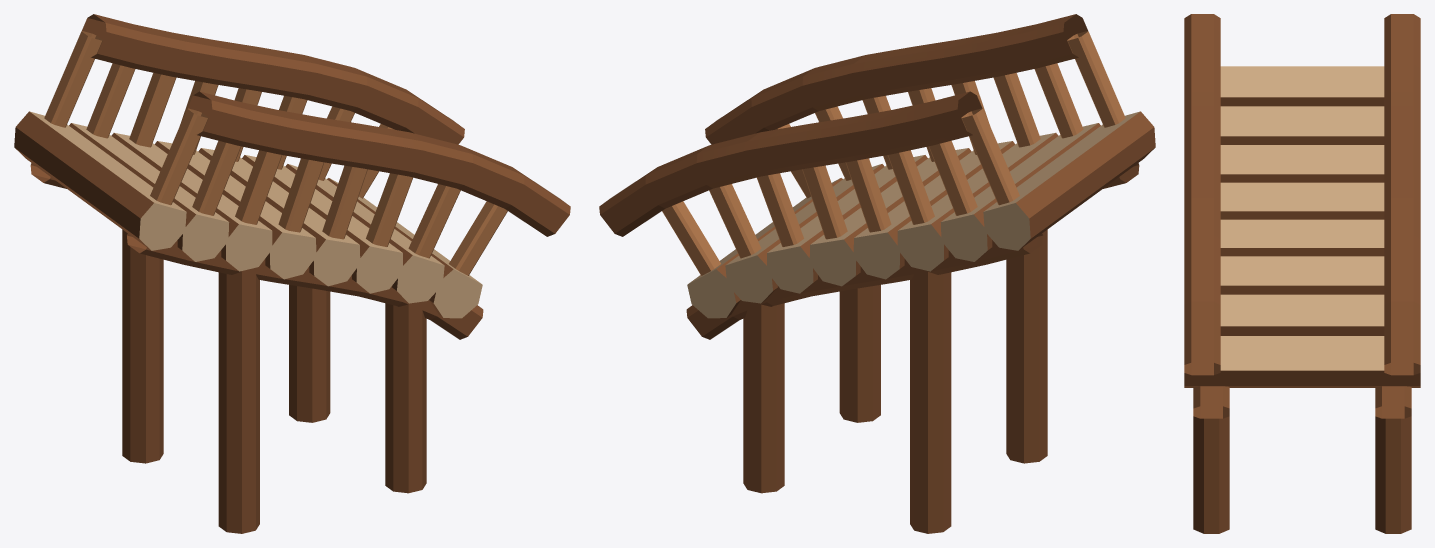
The model's file is Track_Bridge_Incline_Sharp_Gentle_Supported.obj.
The picture shows the model from 3 angles, left to right: view 1: azimuth 30°, elevation 25°; view 2: azimuth 150°, elevation 25°; view 3: azimuth 270°, elevation 25°; orthographic projection. The views are drawn at different scales.
Parts seen in each view (by area): view 1: Bridge_Pier, Bridge_Rail, Bridge_Rail_Support, Log_Plank_End, Log_Plank_Bark, Log_Plank_Top, Bridge_Support_Beam; view 2: Bridge_Pier, Bridge_Rail, Bridge_Rail_Support, Log_Plank_End, Log_Plank_Bark, Log_Plank_Top, Bridge_Support_Beam; view 3: Log_Plank_Top, Bridge_Rail, Log_Plank_Bark, Bridge_Pier, Bridge_Support_Beam.
Part boxes in pixels (left/top/right/bottom): Bridge_Pier: left=122, top=229, right=426, bottom=533; Bridge_Rail: left=82, top=14, right=570, bottom=236; Bridge_Rail_Support: left=44, top=31, right=507, bottom=275; Log_Plank_End: left=139, top=203, right=482, bottom=318; Log_Plank_Bark: left=14, top=111, right=453, bottom=317; Log_Plank_Top: left=30, top=111, right=481, bottom=283; Bridge_Support_Beam: left=30, top=163, right=483, bottom=339; Bridge_Pier: left=743, top=229, right=1047, bottom=533; Bridge_Rail: left=599, top=14, right=1087, bottom=236; Bridge_Rail_Support: left=662, top=31, right=1125, bottom=275; Log_Plank_End: left=687, top=203, right=1030, bottom=318; Log_Plank_Bark: left=716, top=111, right=1155, bottom=317; Log_Plank_Top: left=688, top=111, right=1139, bottom=283; Bridge_Support_Beam: left=686, top=163, right=1139, bottom=339; Log_Plank_Top: left=1220, top=66, right=1384, bottom=370; Bridge_Rail: left=1184, top=14, right=1420, bottom=375; Log_Plank_Bark: left=1184, top=97, right=1420, bottom=387; Bridge_Pier: left=1193, top=416, right=1411, bottom=533; Bridge_Support_Beam: left=1193, top=386, right=1411, bottom=418.
Size of the model in its own units: 2.61 by 2.54 by 1.3.
